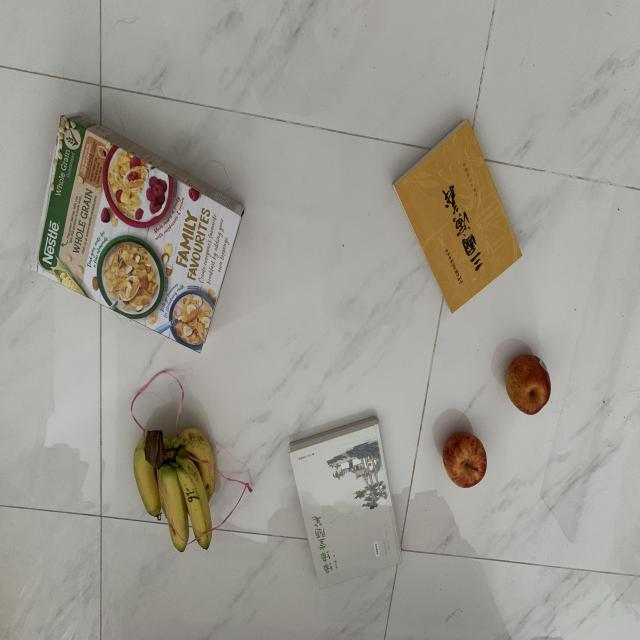Apple: (498, 343, 561, 426), (428, 423, 491, 504)
Banana: (110, 419, 230, 558)
Book: (386, 113, 524, 317), (282, 410, 408, 590)
Cerealbox: (24, 94, 250, 369)
